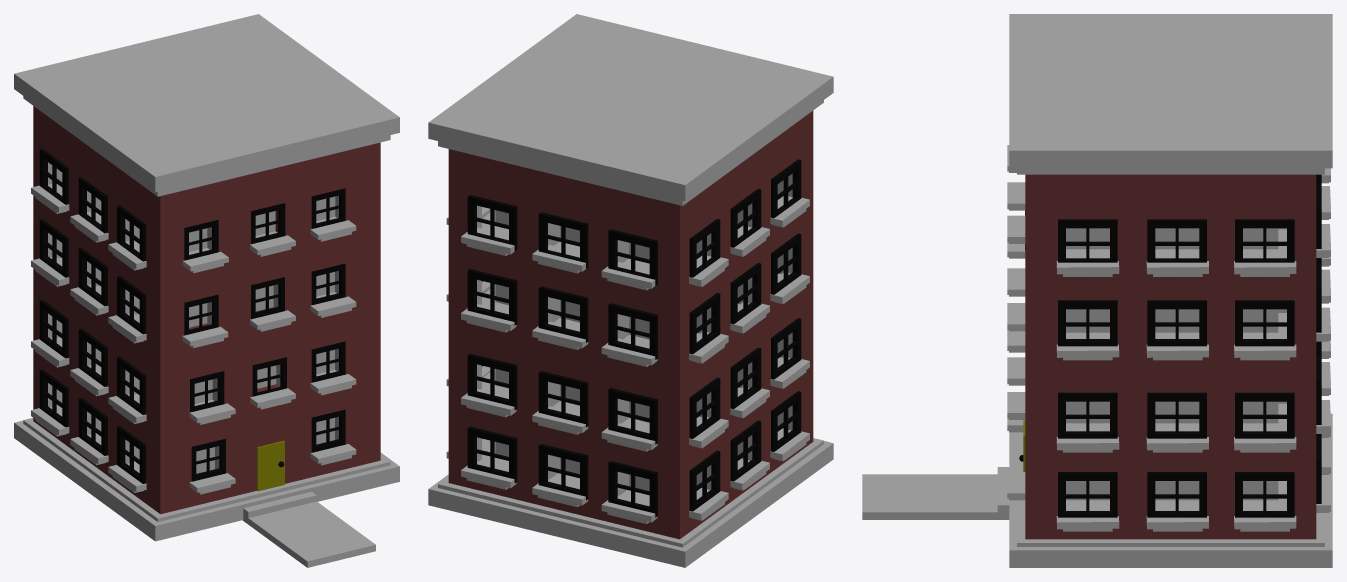
File: generic apartment building.fbx
The picture shows the model from 3 angles, left to right: view 1: azimuth 30°, elevation 25°; view 2: azimuth 150°, elevation 25°; view 3: azimuth 270°, elevation 25°; orthographic projection. The views are drawn at different scales.
Visible parts, largest first — view 1: group3; view 2: group3; view 3: group3.
Part boxes in pixels (left/top/right/bottom): group3: left=14, top=14, right=399, bottom=567; group3: left=428, top=14, right=833, bottom=567; group3: left=862, top=14, right=1332, bottom=567.
Bounding box in the file's own units: 1.51 × 2.15 × 2.19.
